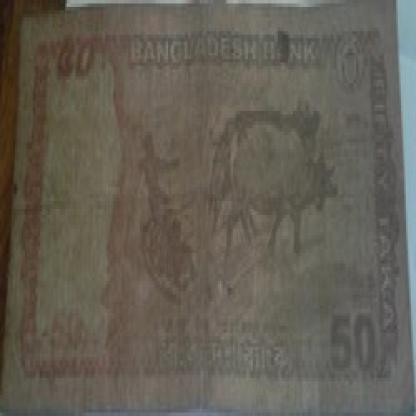Fifty taka: (318, 312, 388, 388), (53, 35, 120, 94)
